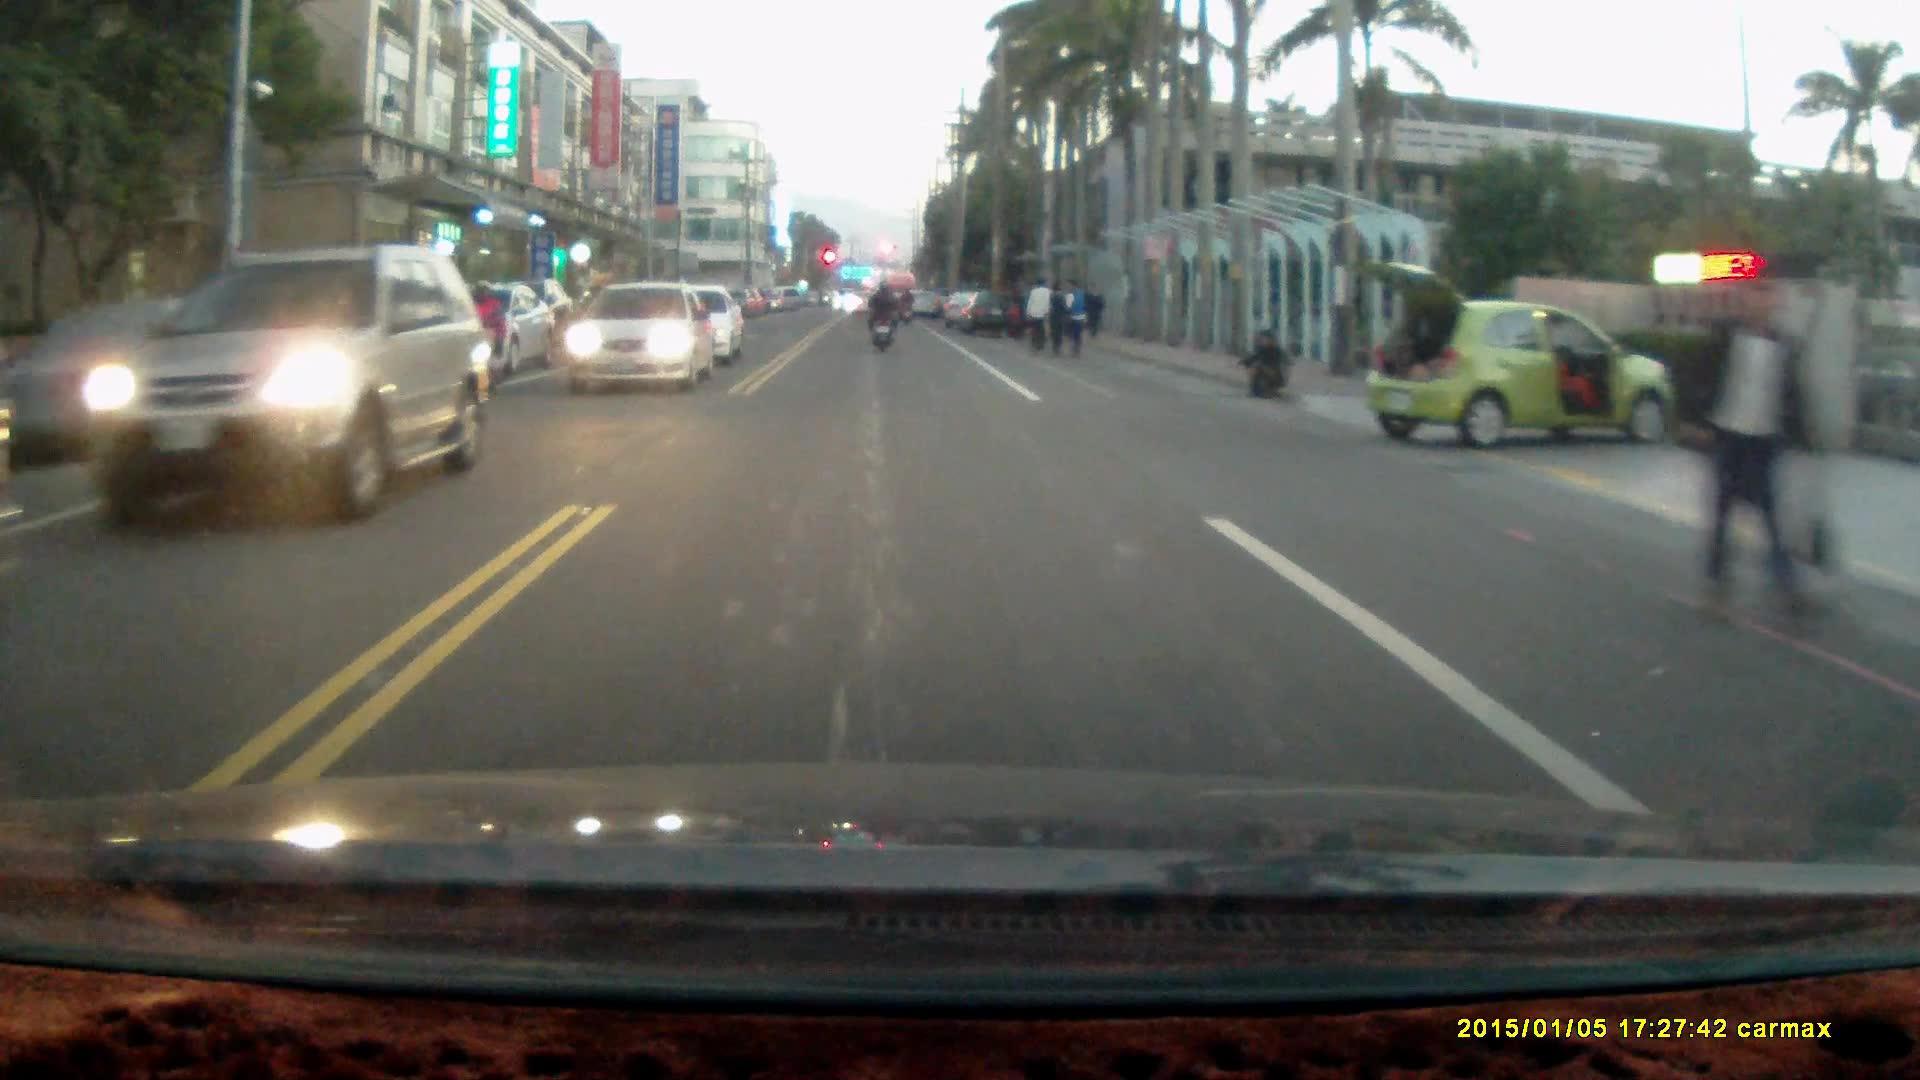pedestrian: (1680, 267, 1824, 628), (1240, 326, 1289, 402), (1055, 274, 1089, 357), (1024, 275, 1051, 358), (1043, 280, 1070, 358)
rider: (454, 278, 506, 405), (864, 277, 899, 355)
vehicle: (70, 242, 476, 529), (1362, 262, 1673, 450), (559, 281, 713, 402), (958, 290, 1026, 340)
